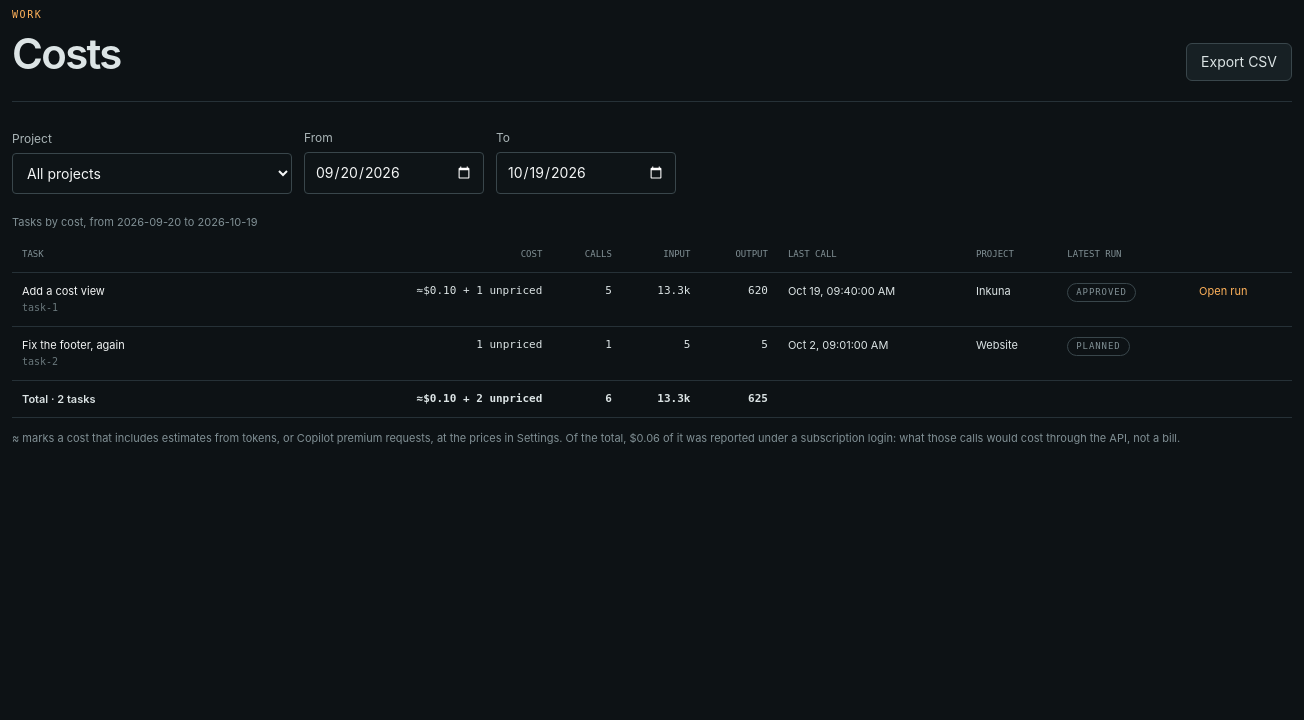
it: CostsView › exports the listed rows as CSV
Expected: the text "Add a cost view" is shown, [22,284,105,298]
Step 1. Click the button "Export CSV" → (1239, 62), box [1186,42,1292,80]
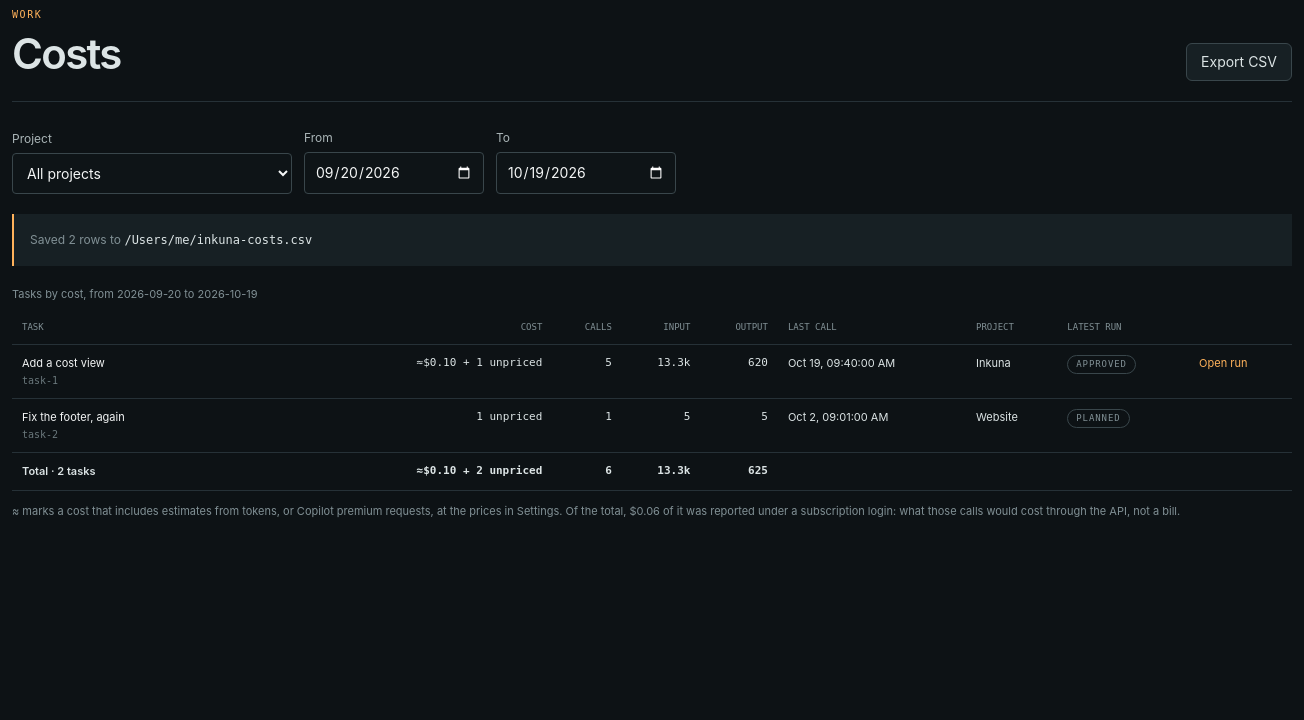
Expected: the message reads "Saved 2 rows to /Users/me/inkuna-costs.csv", [12,214,1292,266]
